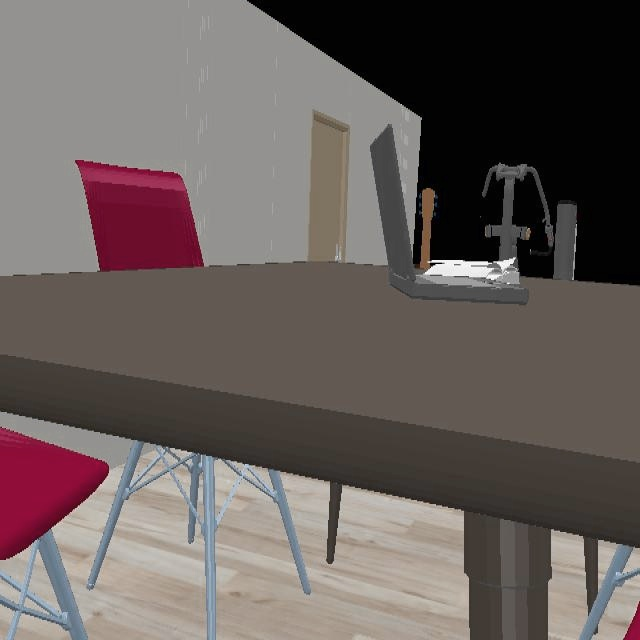book: (417, 257, 528, 303)
chair: (0, 428, 111, 640), (86, 441, 198, 593), (77, 161, 204, 272), (225, 463, 311, 597), (202, 456, 217, 640)
laptop: (371, 119, 525, 301)
table: (0, 261, 640, 640)
